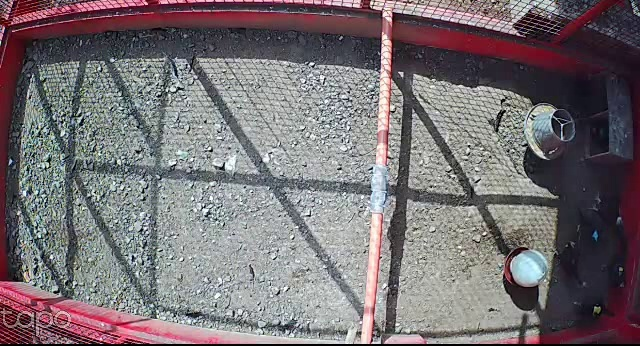Chicken: (565, 204, 607, 249), (553, 237, 586, 285), (598, 248, 628, 290), (573, 299, 618, 320)
Drinker: (503, 248, 549, 287)
Feeder: (523, 102, 577, 162)
Rooster: (586, 190, 627, 240)
Saddle_Color_Blue: (590, 227, 600, 241)
Saddle_Color_Yellow: (592, 305, 603, 314)
